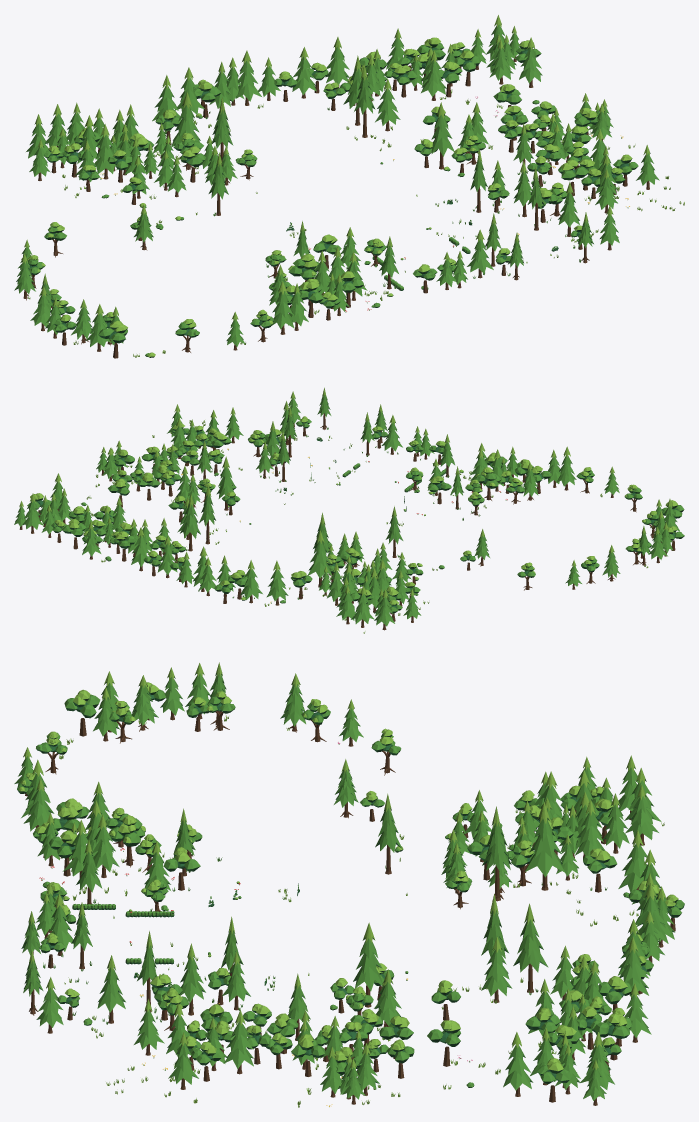
File: LOBBY_VM_09_VEGETATION_6c3d02.fbx
The picture shows the model from 3 angles, top to bottom: view 1: azimuth 30°, elevation 25°; view 2: azimuth 150°, elevation 25°; view 3: azimuth 270°, elevation 25°; orthographic projection. The views are drawn at different scales.
Visible parts, largest first — view 1: VM_Veg_CN__Leaf_VM_Round, VM_Veg_EN__Leaf_VM_Round, VM_Veg_ES__Leaf_VM_Round, VM_Veg_CS__Leaf_VM_Round, VM_Veg_WS__Leaf_VM_Round, VM_Veg_WN__Leaf_VM_Round, VM_Veg_ES__Leaf_VM_Light, VM_Veg_EN__Leaf_VM_Light, VM_Veg_CN__Leaf_VM_Light, VM_Veg_ES__Leaf_VM_Pine, VM_Veg_CS__Leaf_VM_Light, VM_Veg_EN__Leaf_VM_Pine (+11 smaller); view 2: VM_Veg_EN__Leaf_VM_Round, VM_Veg_CN__Leaf_VM_Round, VM_Veg_ES__Leaf_VM_Round, VM_Veg_WS__Leaf_VM_Round, VM_Veg_CS__Leaf_VM_Round, VM_Veg_WN__Leaf_VM_Round, VM_Veg_EN__Leaf_VM_Light, VM_Veg_ES__Leaf_VM_Light, VM_Veg_CN__Leaf_VM_Light, VM_Veg_EN__Leaf_VM_Pine, VM_Veg_CS__Leaf_VM_Light, VM_Veg_ES__Leaf_VM_Pine (+11 smaller); view 3: VM_Veg_ES__Leaf_VM_Round, VM_Veg_EN__Leaf_VM_Round, VM_Veg_CN__Leaf_VM_Round, VM_Veg_CS__Leaf_VM_Round, VM_Veg_WS__Leaf_VM_Round, VM_Veg_ES__Leaf_VM_Light, VM_Veg_EN__Leaf_VM_Light, VM_Veg_WN__Leaf_VM_Round, VM_Veg_CN__Leaf_VM_Light, VM_Veg_CS__Leaf_VM_Light, VM_Veg_ES__Leaf_VM_Pine, VM_Veg_WS__Leaf_VM_Light (+11 smaller).
Boxes of the visible parts, bbox=[...] form: VM_Veg_CN__Leaf_VM_Round: bbox=[93, 56, 393, 219]; VM_Veg_EN__Leaf_VM_Round: bbox=[308, 24, 555, 154]; VM_Veg_ES__Leaf_VM_Round: bbox=[431, 101, 659, 262]; VM_Veg_CS__Leaf_VM_Round: bbox=[265, 200, 523, 312]; VM_Veg_WS__Leaf_VM_Round: bbox=[15, 213, 308, 356]; VM_Veg_WN__Leaf_VM_Round: bbox=[26, 112, 163, 238]; VM_Veg_ES__Leaf_VM_Light: bbox=[436, 93, 684, 258]; VM_Veg_EN__Leaf_VM_Light: bbox=[311, 15, 570, 153]; VM_Veg_CN__Leaf_VM_Light: bbox=[82, 47, 357, 219]; VM_Veg_ES__Leaf_VM_Pine: bbox=[432, 100, 656, 251]; VM_Veg_CS__Leaf_VM_Light: bbox=[271, 194, 527, 314]; VM_Veg_EN__Leaf_VM_Pine: bbox=[310, 24, 554, 156]; VM_Veg_EN__Leaf_VM_Round: bbox=[14, 472, 240, 567]; VM_Veg_CN__Leaf_VM_Round: bbox=[157, 515, 419, 610]; VM_Veg_ES__Leaf_VM_Round: bbox=[96, 395, 331, 498]; VM_Veg_WS__Leaf_VM_Round: bbox=[474, 455, 684, 586]; VM_Veg_CS__Leaf_VM_Round: bbox=[284, 411, 533, 520]; VM_Veg_WN__Leaf_VM_Round: bbox=[336, 554, 535, 626]; VM_Veg_EN__Leaf_VM_Light: bbox=[19, 466, 235, 562]; VM_Veg_ES__Leaf_VM_Light: bbox=[96, 387, 331, 506]; VM_Veg_CN__Leaf_VM_Light: bbox=[164, 506, 422, 620]; VM_Veg_EN__Leaf_VM_Pine: bbox=[15, 472, 238, 566]; VM_Veg_CS__Leaf_VM_Light: bbox=[284, 404, 532, 526]; VM_Veg_ES__Leaf_VM_Pine: bbox=[97, 395, 330, 507]; VM_Veg_ES__Leaf_VM_Round: bbox=[23, 930, 382, 1099]; VM_Veg_EN__Leaf_VM_Round: bbox=[368, 911, 653, 1100]; VM_Veg_CN__Leaf_VM_Round: bbox=[375, 804, 684, 980]; VM_Veg_CS__Leaf_VM_Round: bbox=[21, 813, 298, 984]; VM_Veg_WS__Leaf_VM_Round: bbox=[14, 673, 363, 831]; VM_Veg_ES__Leaf_VM_Light: bbox=[29, 916, 378, 1107]; VM_Veg_EN__Leaf_VM_Light: bbox=[367, 894, 646, 1096]; VM_Veg_WN__Leaf_VM_Round: bbox=[360, 734, 661, 839]; VM_Veg_CN__Leaf_VM_Light: bbox=[384, 791, 678, 982]; VM_Veg_CS__Leaf_VM_Light: bbox=[28, 800, 309, 984]; VM_Veg_ES__Leaf_VM_Pine: bbox=[24, 930, 382, 1094]; VM_Veg_WS__Leaf_VM_Light: bbox=[18, 662, 354, 818].
Bounding box in the file's own units: 391 × 43.68 × 277.
